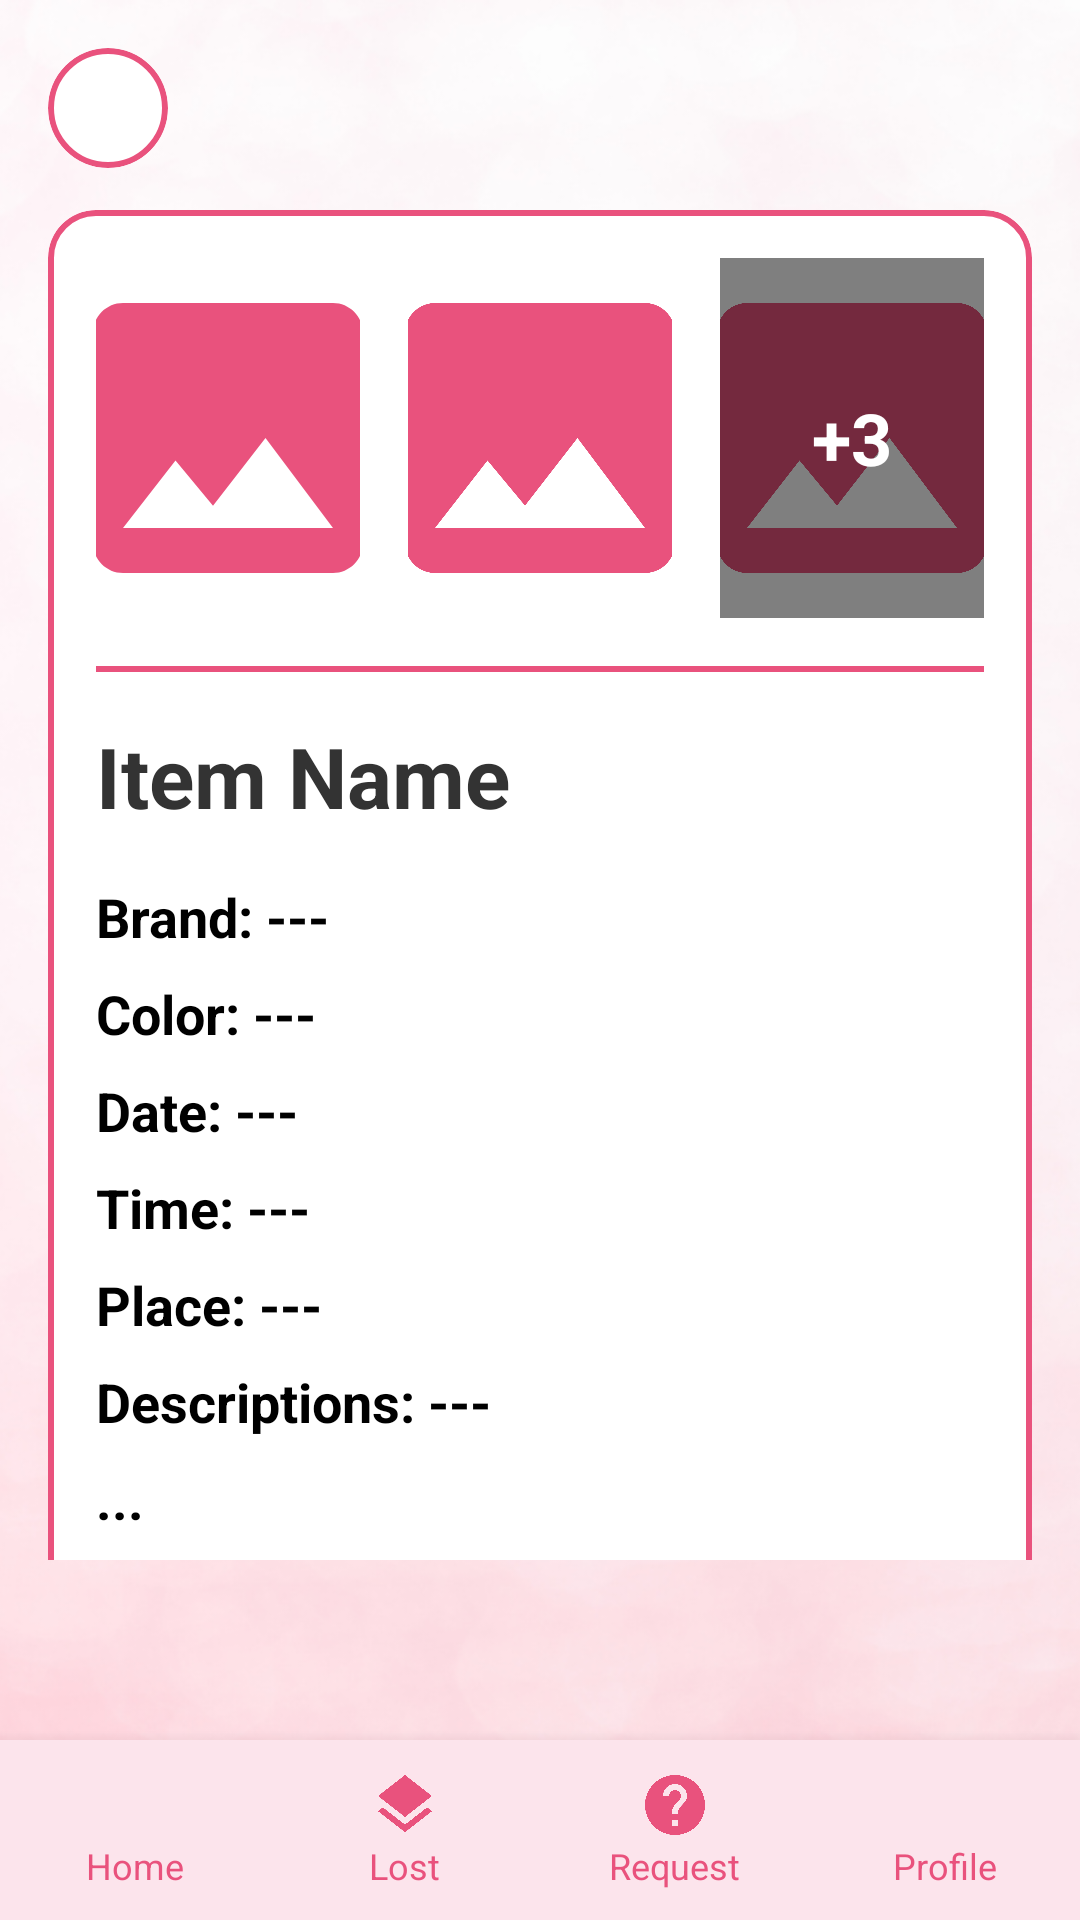

Named icons in this screenshot (1080w x 1920h) and their centers, [x,y]:
help: [675,1805]
layers: [405,1803]
